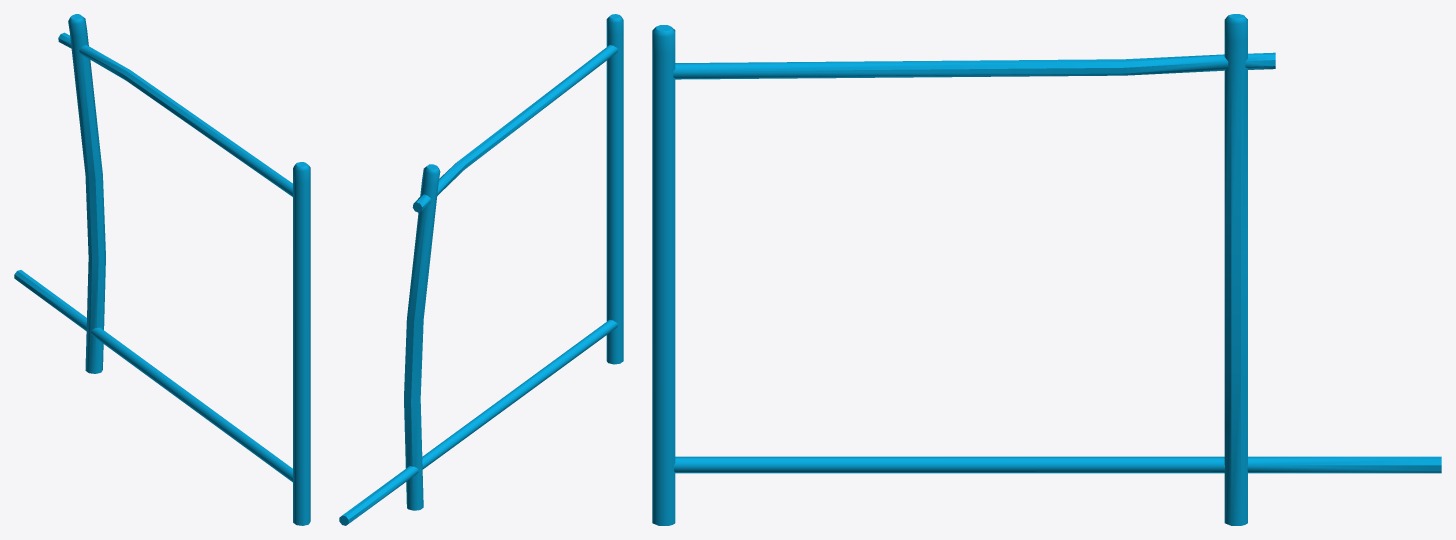
File: Garden_Fence_03_Break_01_Lod0.fbx
3 renders of one model, left to right at view 1: azimuth 30°, elevation 25°; view 2: azimuth 150°, elevation 25°; view 3: azimuth 270°, elevation 25°, orthographic. The views are drawn at different scales.
Visible parts, largest first — view 1: Garden_Fence_03_Break_01_Lod0; view 2: Garden_Fence_03_Break_01_Lod0; view 3: Garden_Fence_03_Break_01_Lod0.
Boxes of the visible parts, <box> form: Garden_Fence_03_Break_01_Lod0: <box>14,14,310,525</box>; Garden_Fence_03_Break_01_Lod0: <box>339,14,623,525</box>; Garden_Fence_03_Break_01_Lod0: <box>652,14,1441,525</box>.
Size of the model in its own units: 28.72 by 286 by 414.
